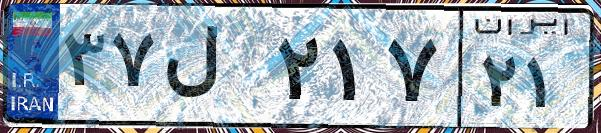1: (330, 28, 385, 110), (525, 38, 570, 115)
2: (270, 28, 330, 110), (475, 38, 525, 113)
3: (57, 26, 110, 100)
7: (385, 28, 445, 110), (110, 28, 158, 98)
ل: (158, 20, 270, 120)
